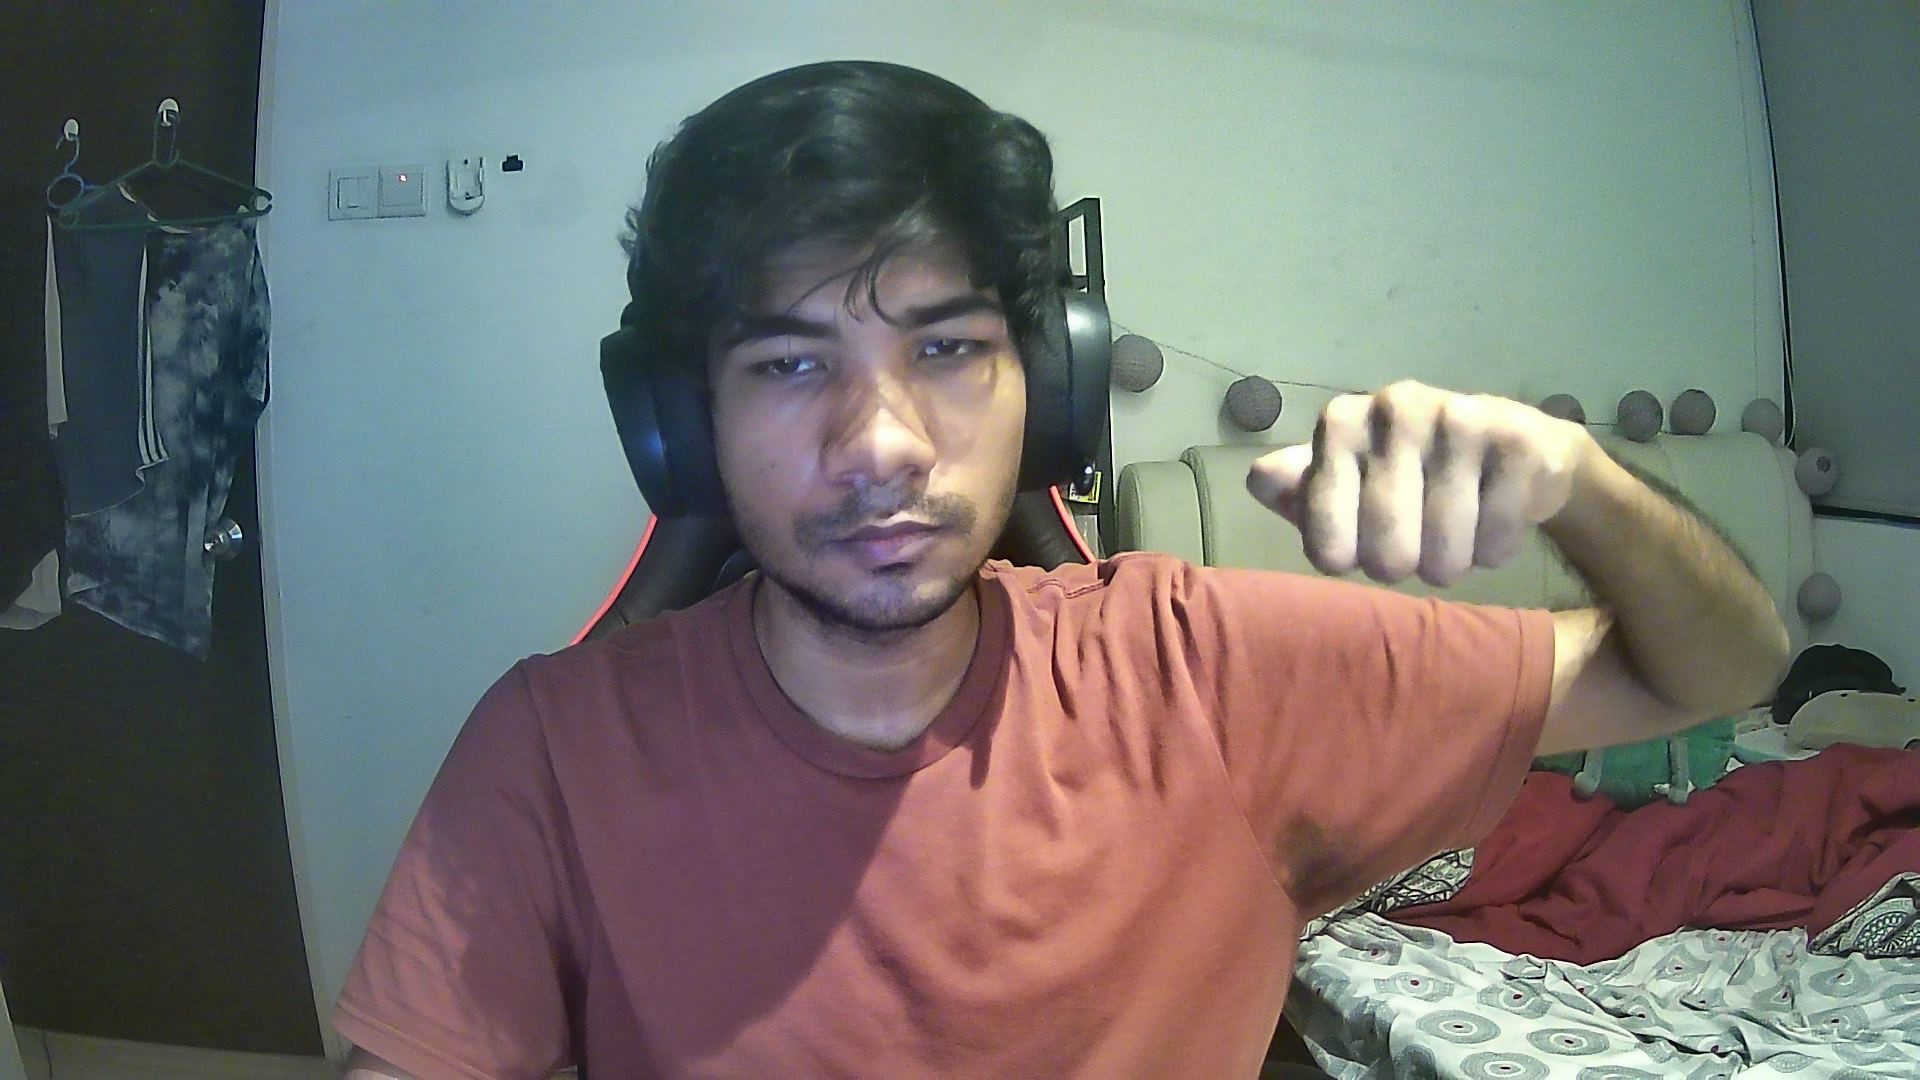Yes: (1244, 371, 1590, 595)
